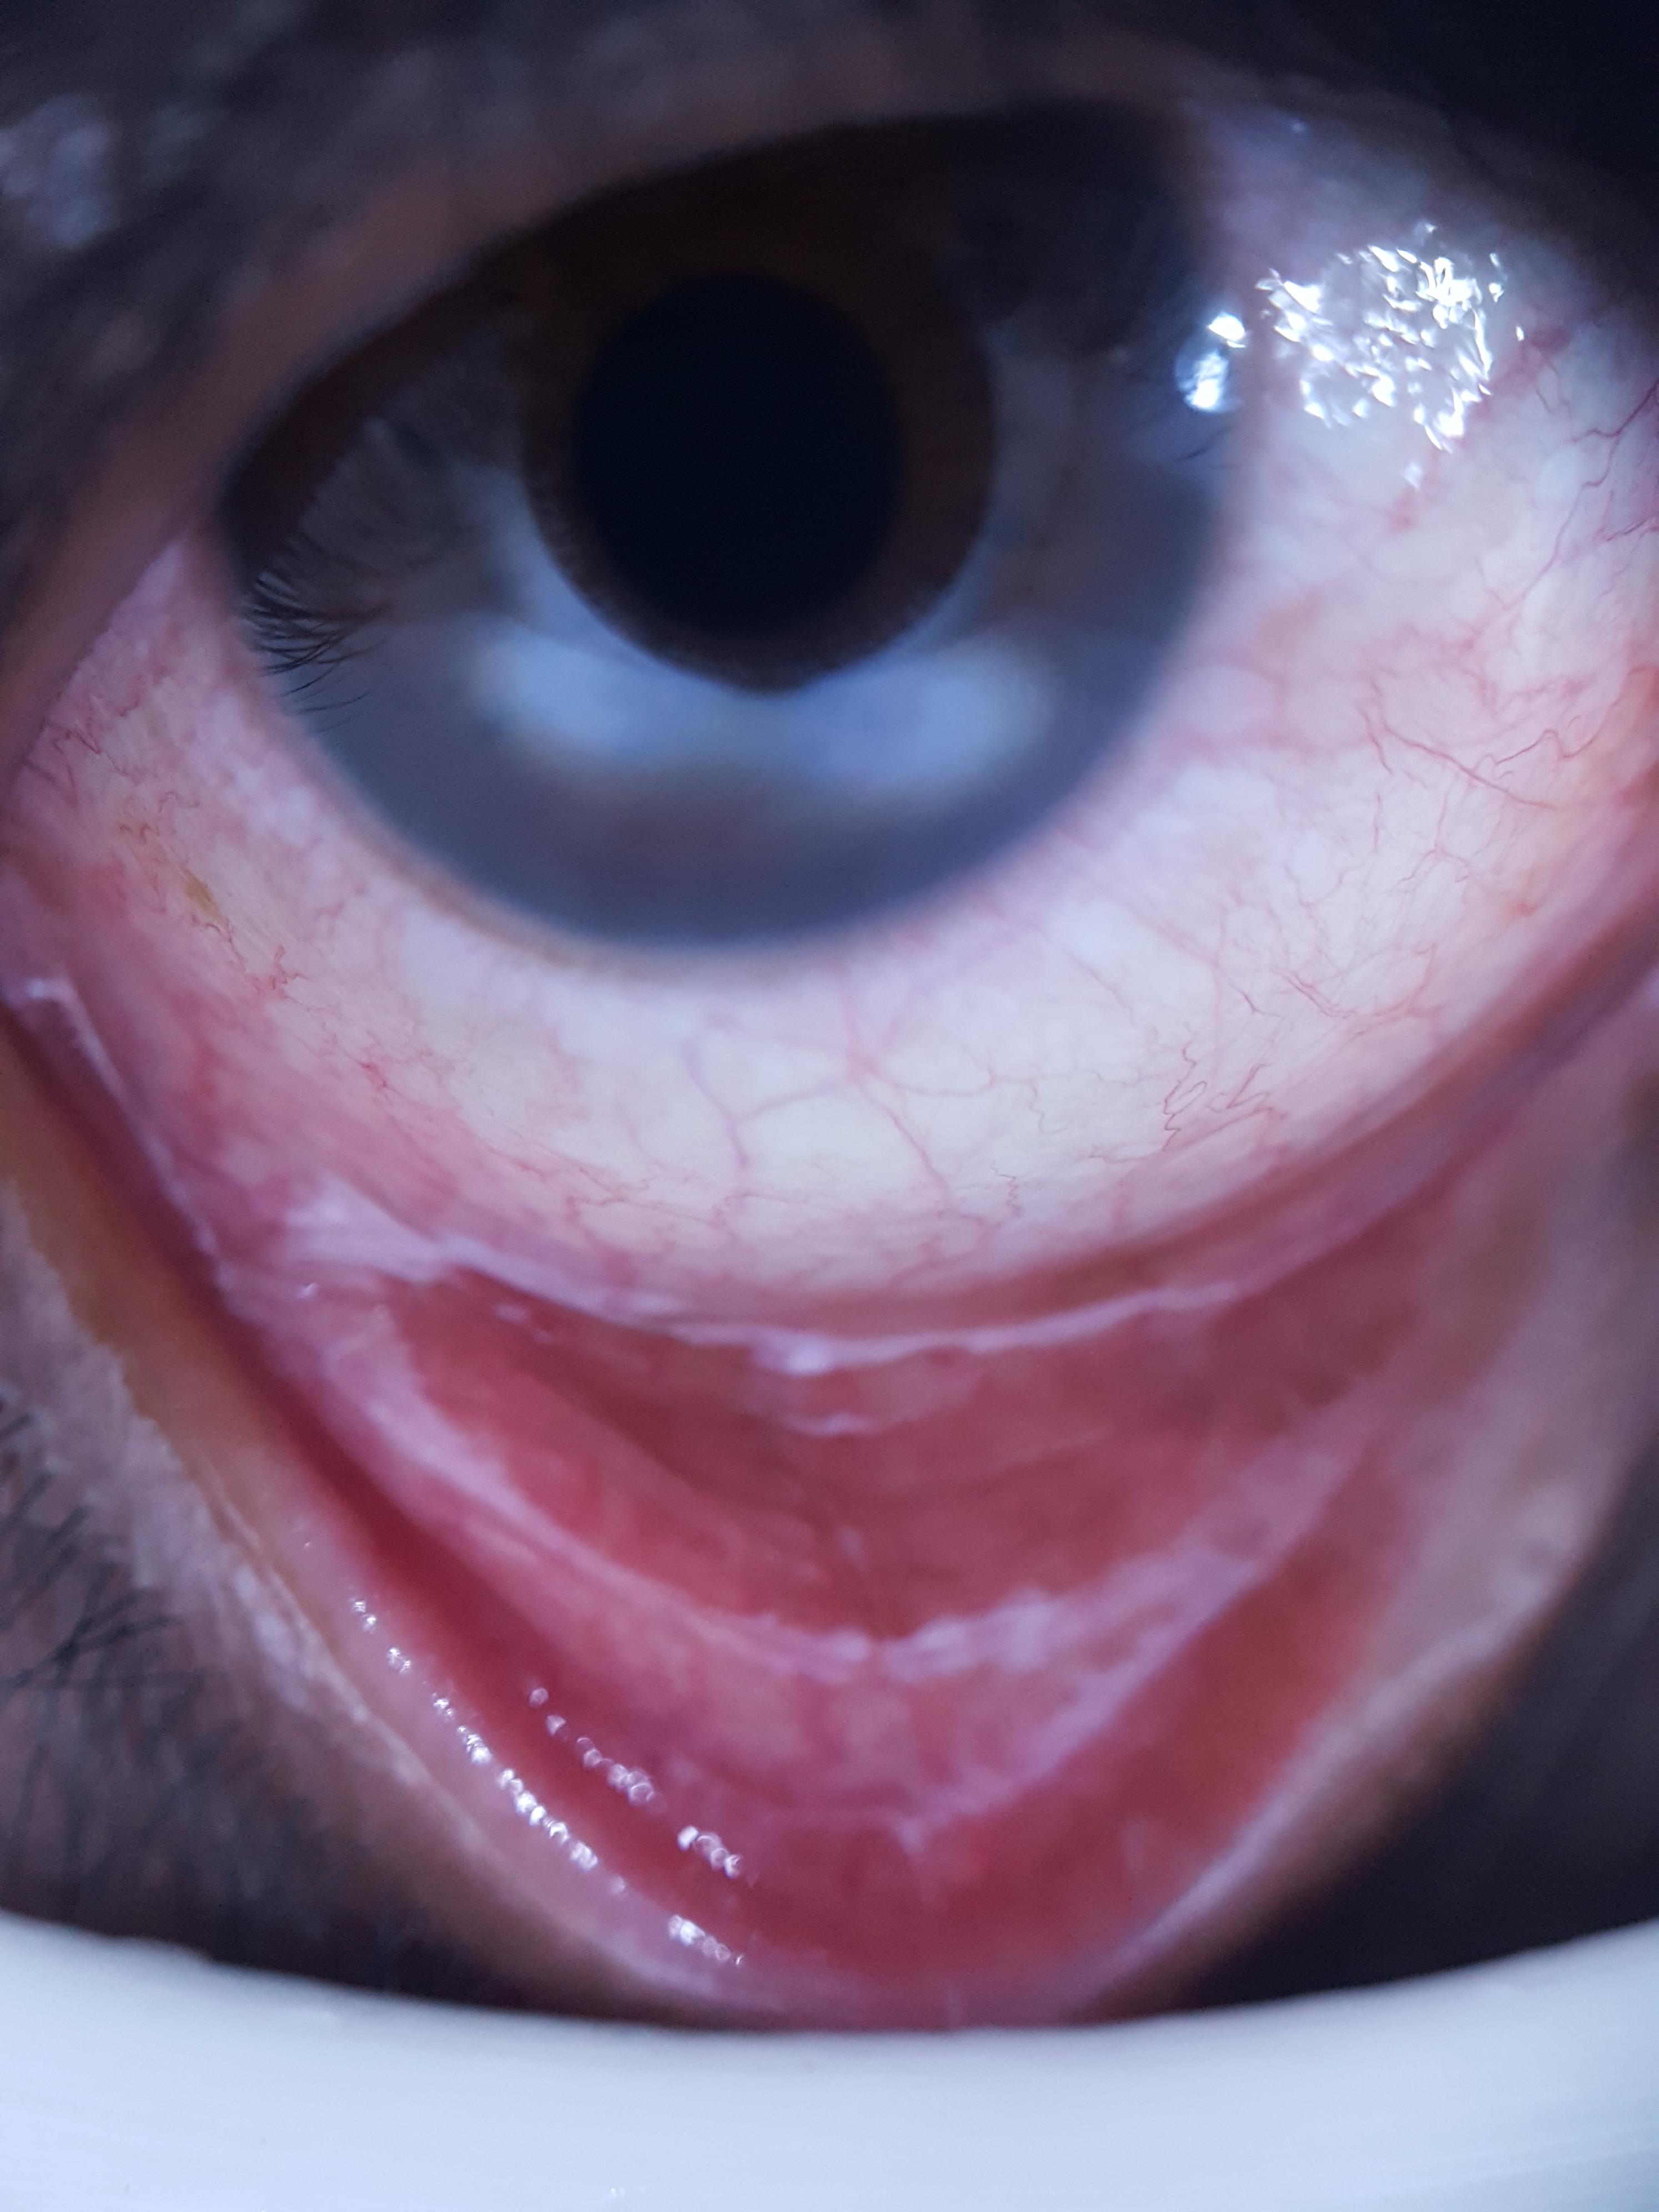forniceal: (70, 911, 1575, 1822)
forniceal_palpebral: (0, 906, 1588, 1993)
palpebral: (2, 989, 1542, 1982)
